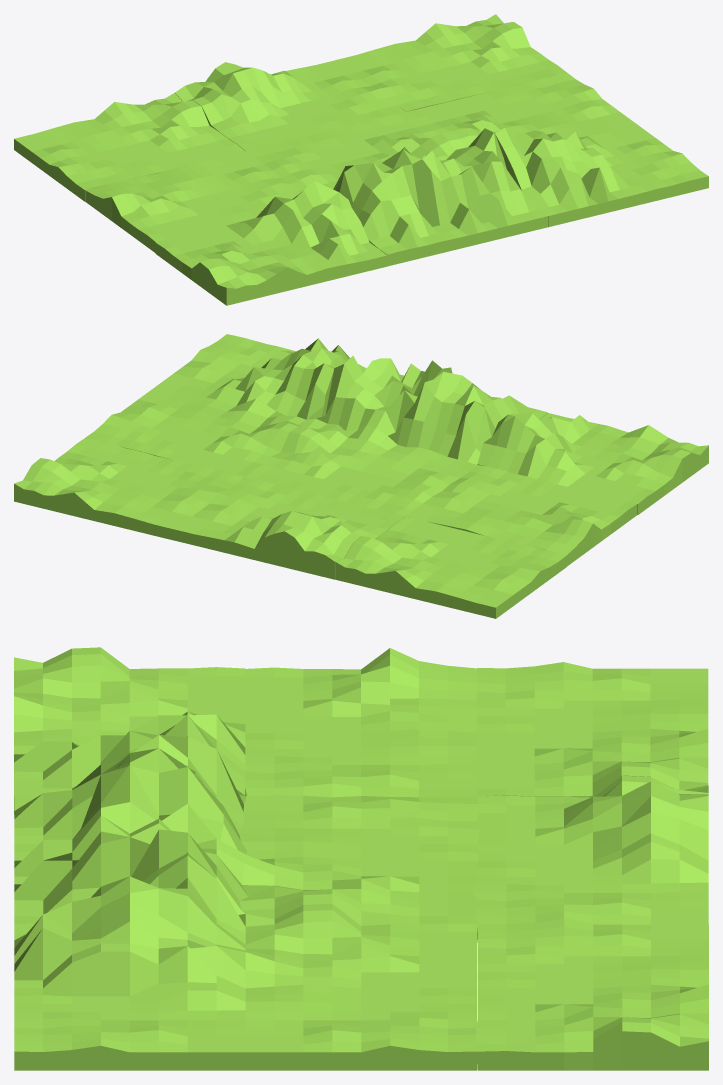
Rendered from podloga nowa.fbx.
The picture shows the model from 3 angles, top to bottom: view 1: azimuth 30°, elevation 25°; view 2: azimuth 150°, elevation 25°; view 3: azimuth 270°, elevation 25°; orthographic projection. The views are drawn at different scales.
Visible parts, largest first — view 1: 2/2, 1/1, 1/3, 3/1, 3/3; view 2: 2/2, 3/1, 1/1, 3/3, 1/3; view 3: 2/2, 1/3, 3/3, 3/1, 1/1.
Boxes of the visible parts, <box> form: 2/2: <box>85,60,637,266</box>; 1/1: <box>155,181,387,305</box>; 1/3: <box>495,125,708,227</box>; 3/1: <box>14,93,244,201</box>; 3/3: <box>335,14,566,111</box>; 2/2: <box>85,355,637,579</box>; 3/1: <box>335,516,566,618</box>; 1/1: <box>477,413,708,514</box>; 3/3: <box>14,438,245,540</box>; 1/3: <box>156,334,366,419</box>; 2/2: <box>14,648,708,1070</box>; 1/3: <box>14,853,245,1070</box>; 3/3: <box>476,917,708,1070</box>; 3/1: <box>477,662,708,797</box>; 1/1: <box>14,647,245,814</box>.
Bounding box in the file's own units: 16016 × 2235 × 12253.
